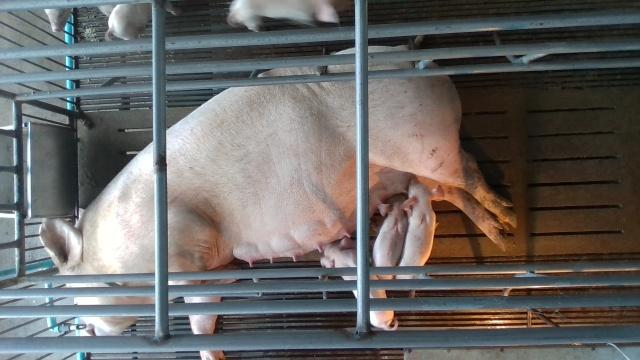piglet: (320, 235, 400, 331), (396, 175, 443, 278), (228, 0, 340, 32), (372, 192, 412, 278), (105, 0, 182, 42)
sow-sleep-lactate: (40, 47, 515, 360)
